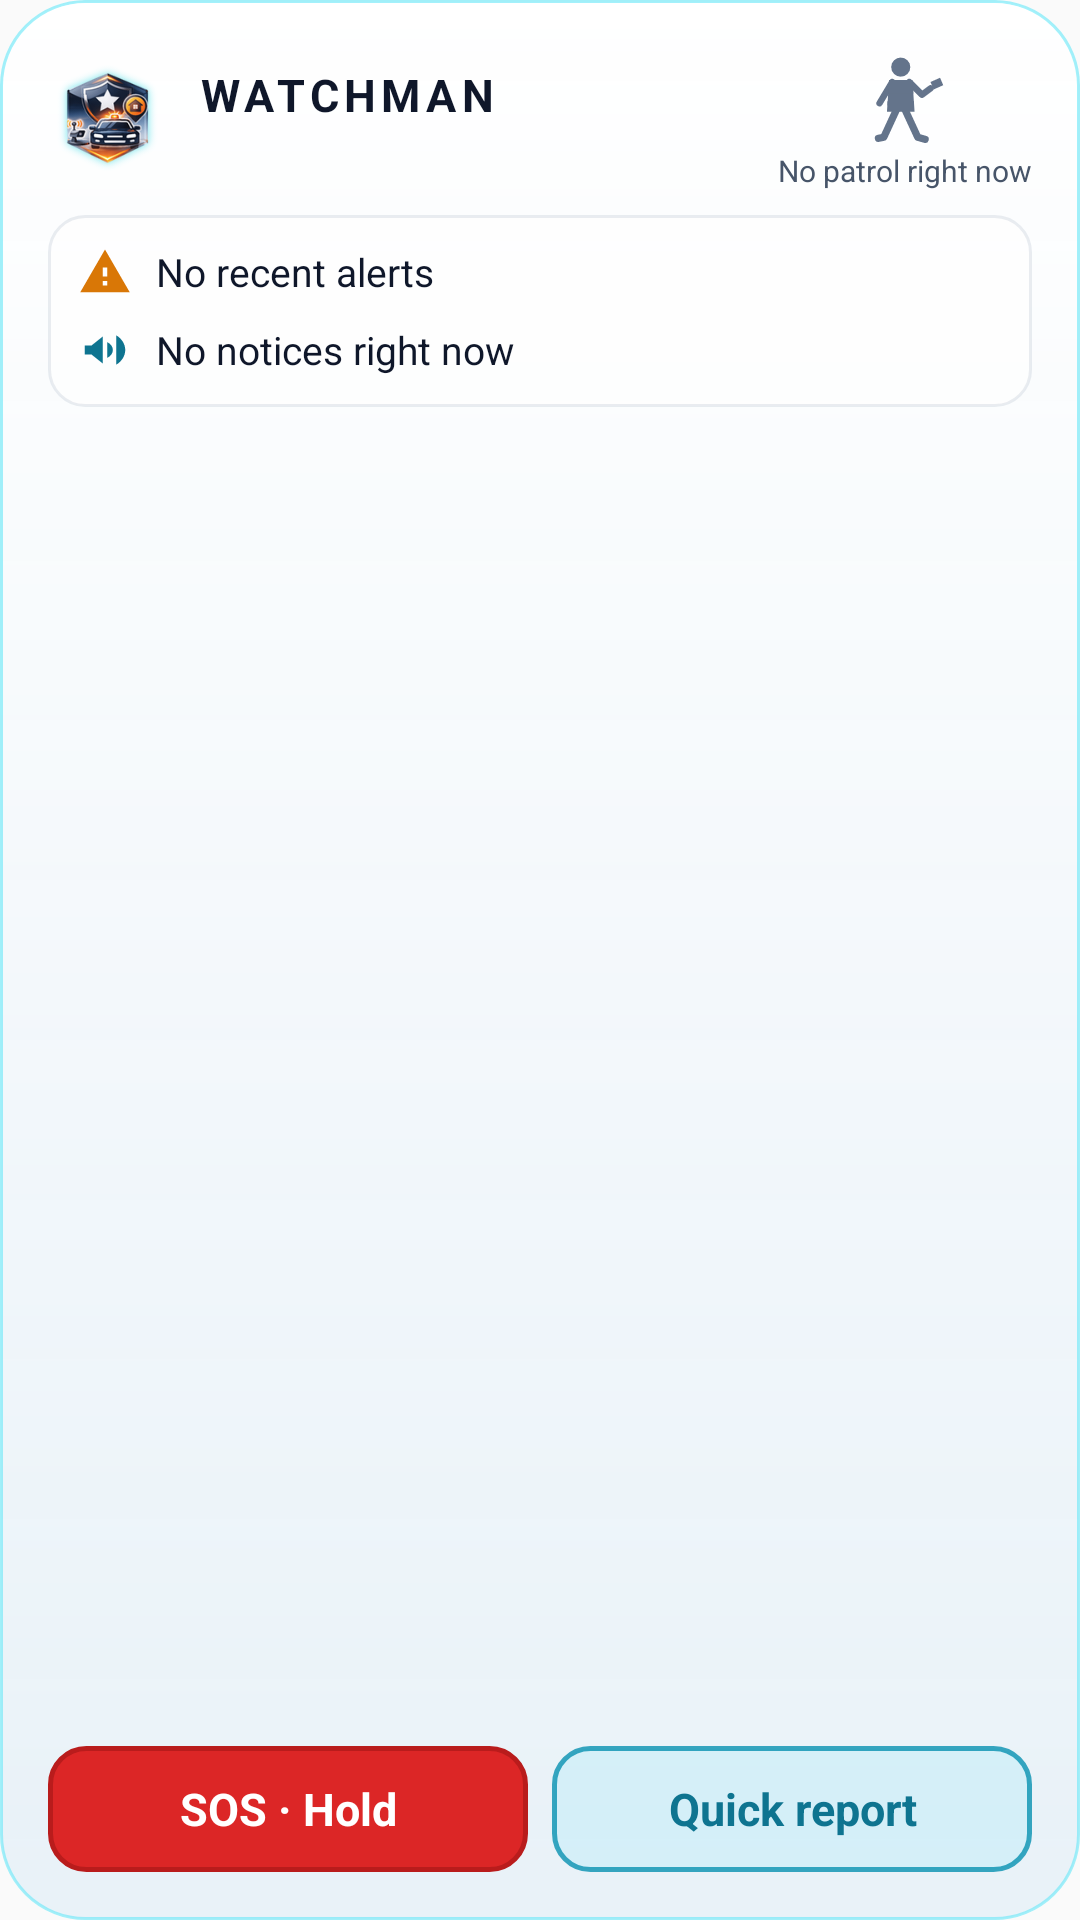

Named icons in this screenshot (1080x1920) and their centers, [x,y]:
widget alert: [105,271]
widget megaphone: [105,350]
widget torch patroller off: [908,100]
